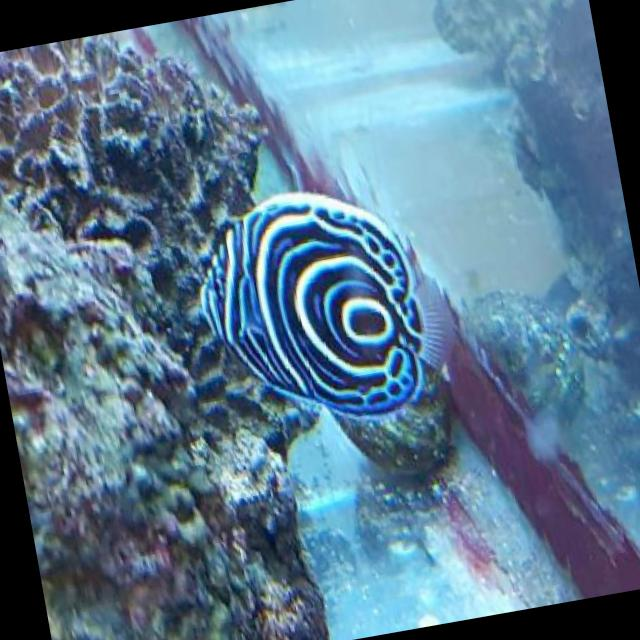AngelFish: (191, 168, 458, 441)
